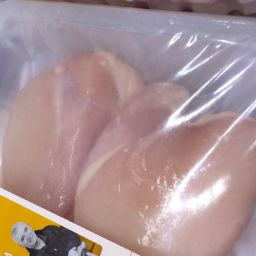Chicken Thigh Fillets: (11, 40, 136, 210), (117, 63, 207, 256), (183, 79, 256, 255)
